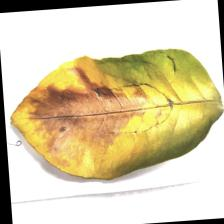black spot: (26, 79, 147, 141)
